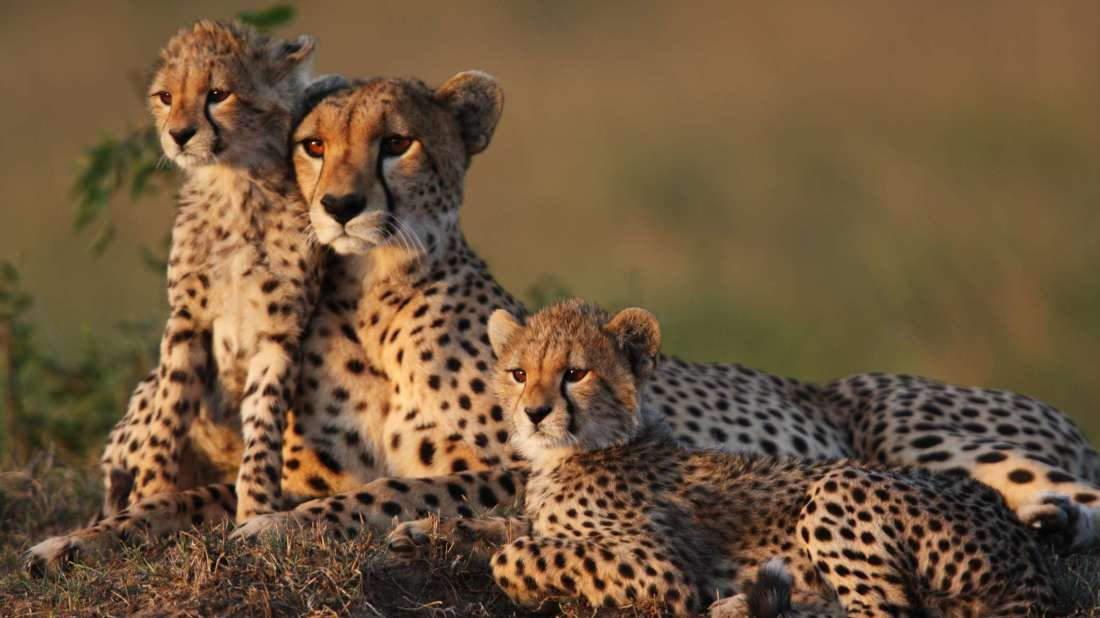Cheetah: (24, 73, 1100, 530), (387, 294, 1056, 618), (87, 21, 318, 521)
